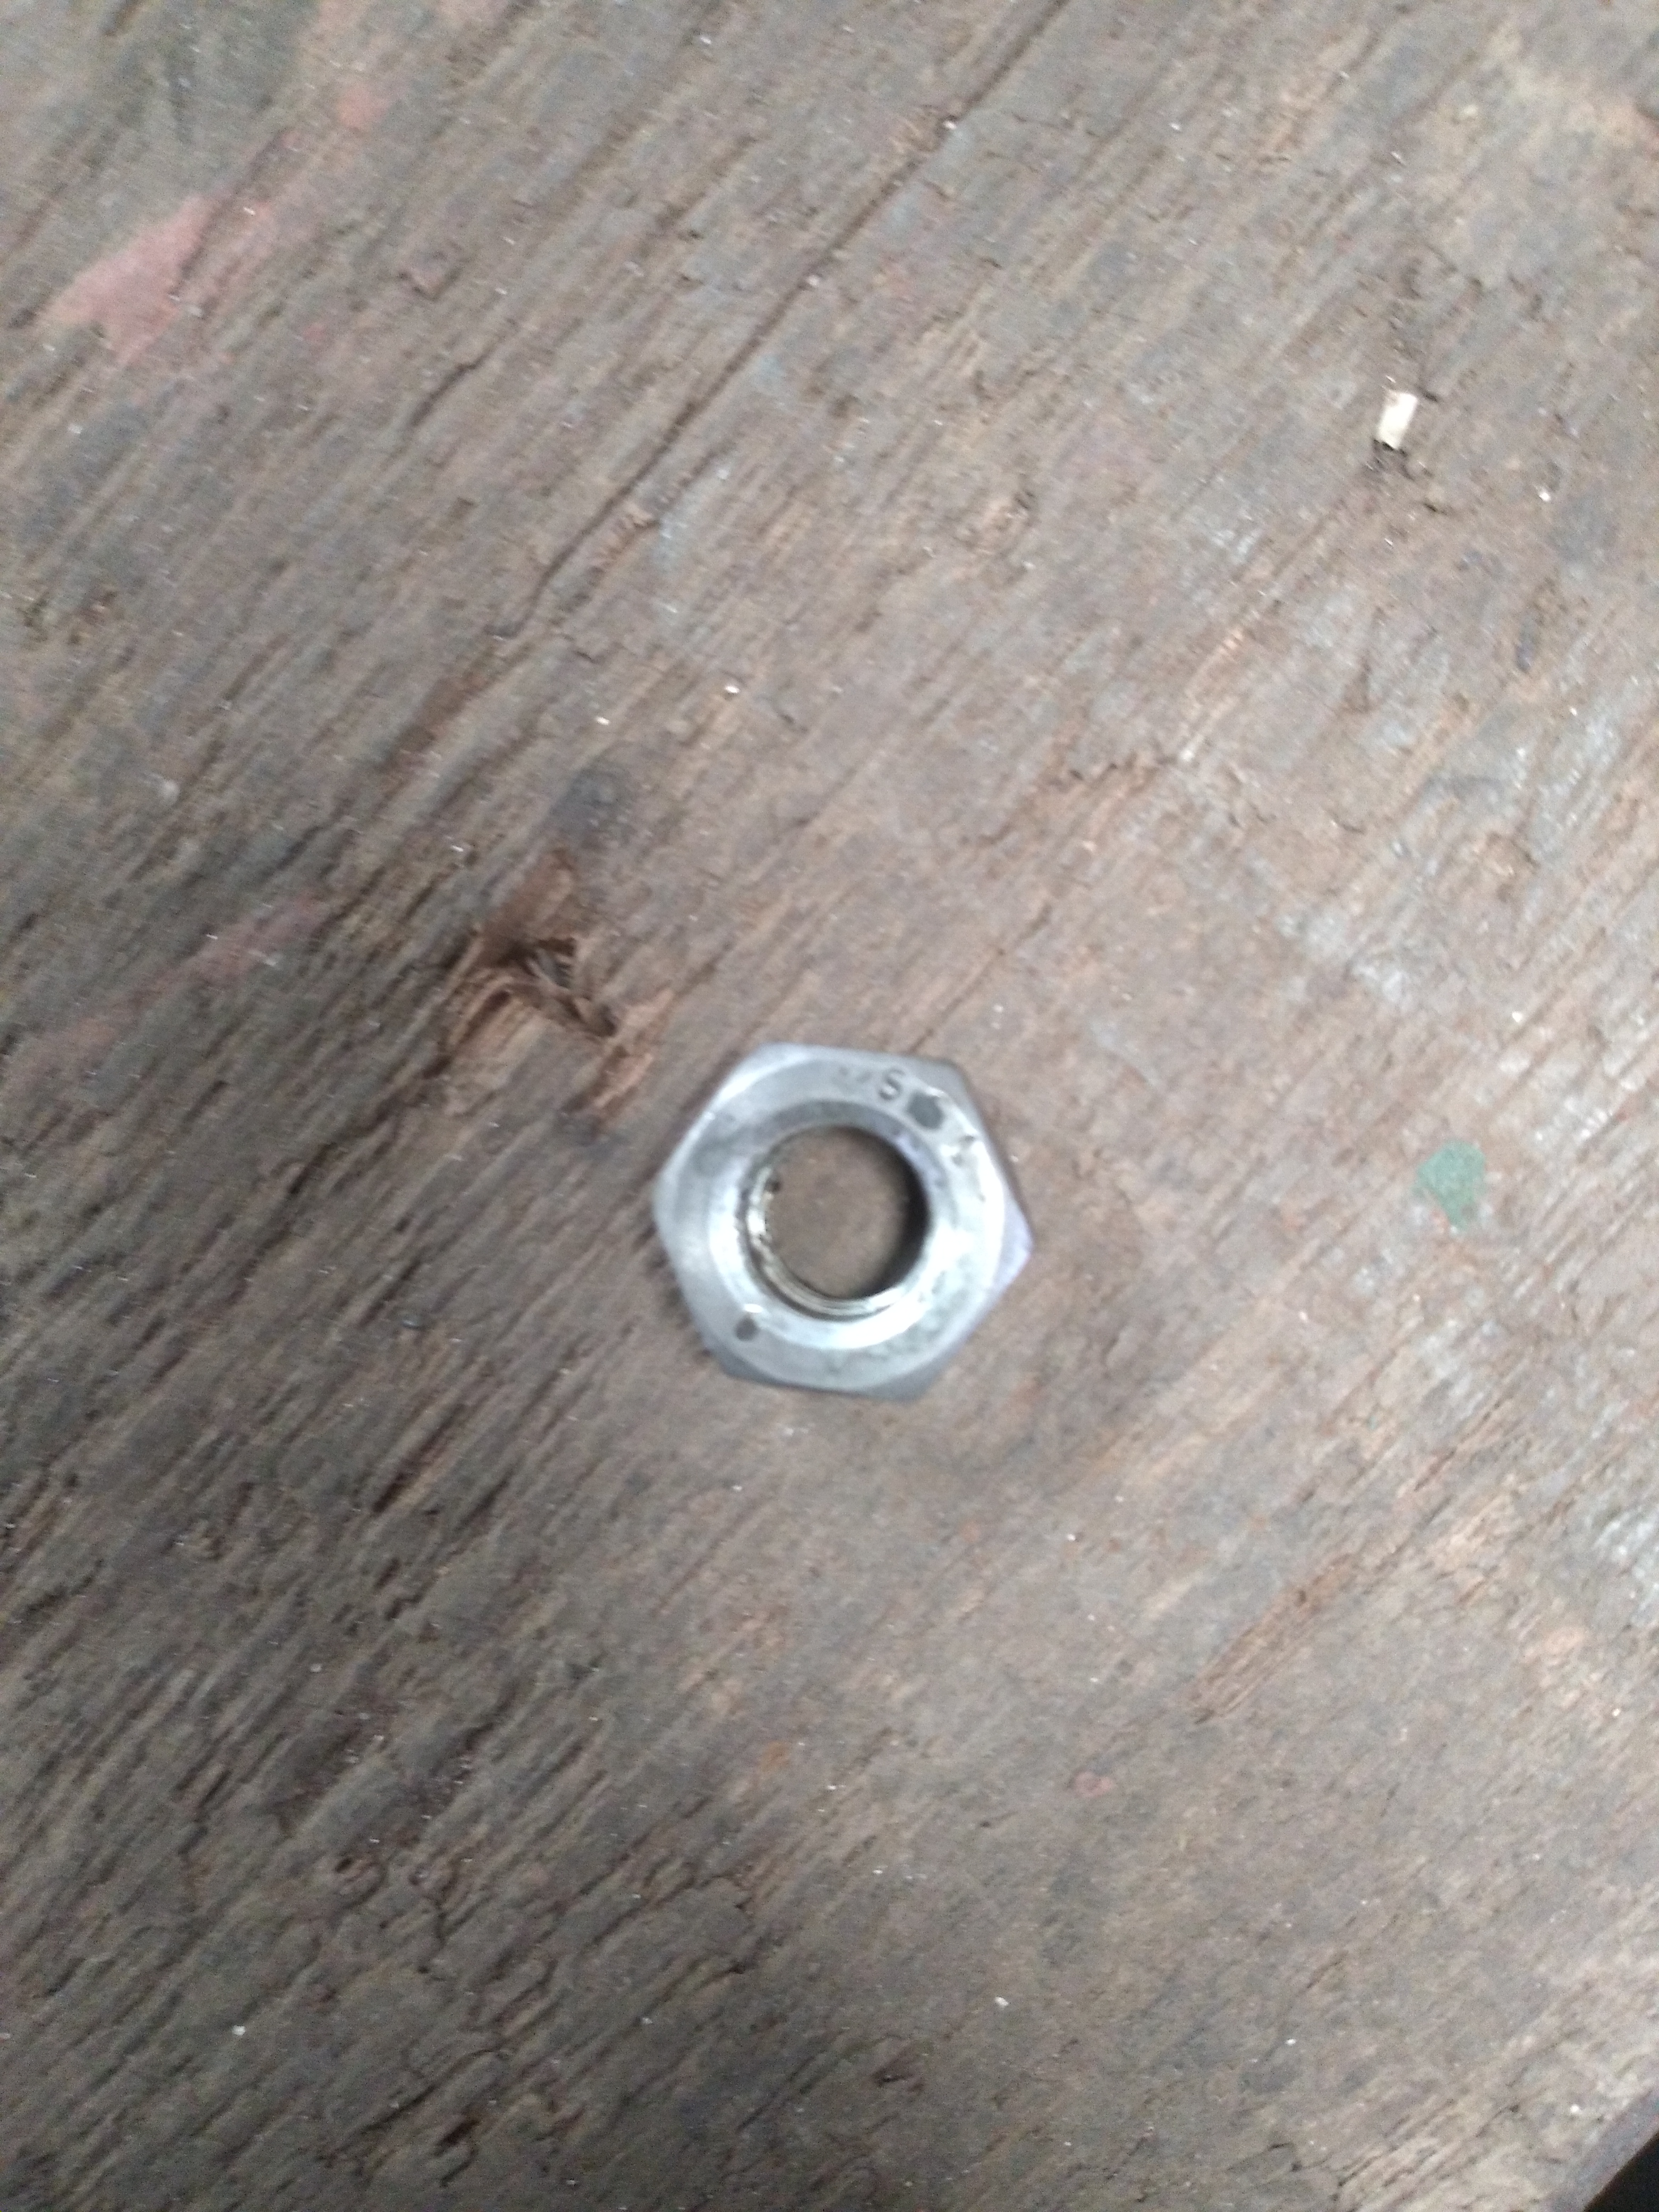Thread: (697, 1108, 964, 1325)
